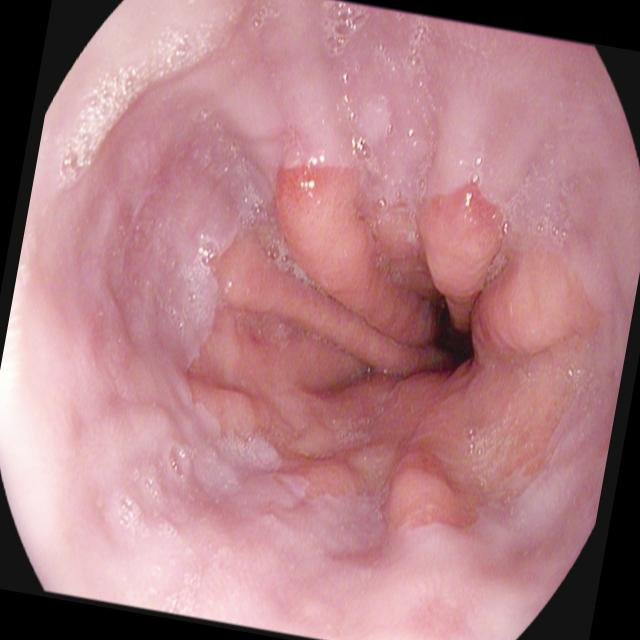Normal-Z-Line: (171, 145, 620, 555)
